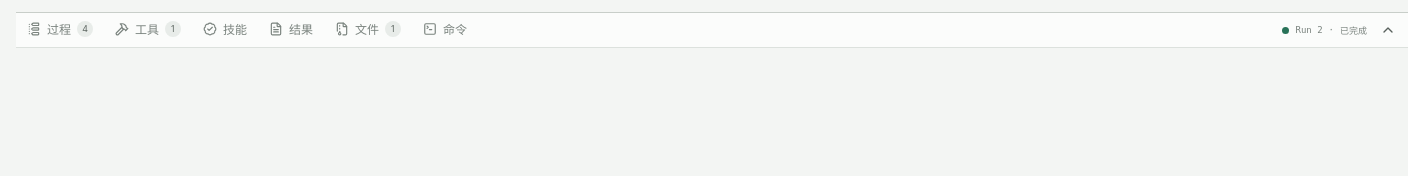
Test: RunDrawer › pairs real ToolCall and ToolResult activities and redacts secrets
Step 1. Click the tab "工具 1" → (148, 30), box left=104, top=13, right=192, bottom=47
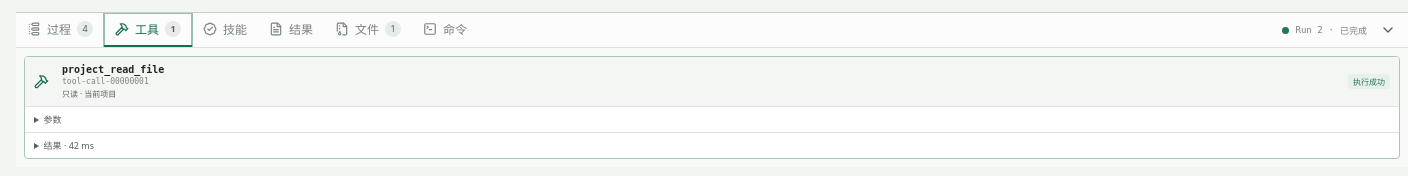
Check: the text "project_read_file" is shown, box left=62, top=64, right=164, bottom=75
Check: the text "只读 · 当前项目" is shown, box left=62, top=88, right=116, bottom=99
Check: the text "执行成功" is shown, box left=1348, top=74, right=1390, bottom=89
